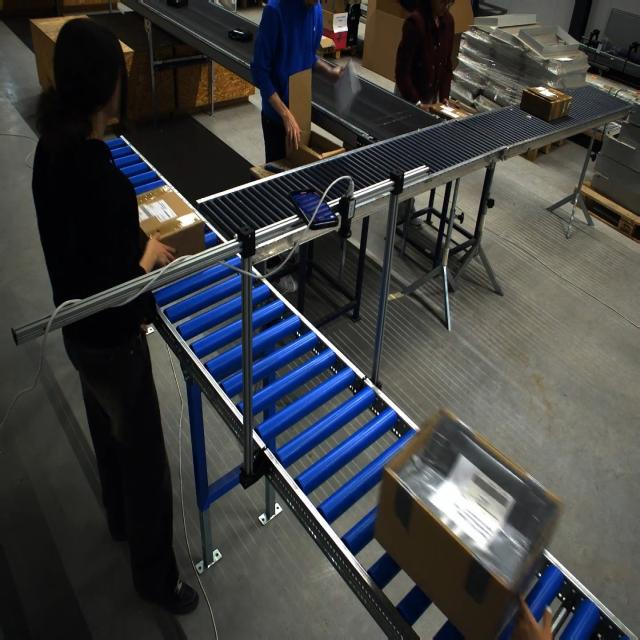box: (379, 417, 563, 640), (267, 67, 335, 170), (136, 186, 204, 260), (519, 85, 573, 123)
product: (228, 29, 253, 42), (264, 163, 284, 173)
